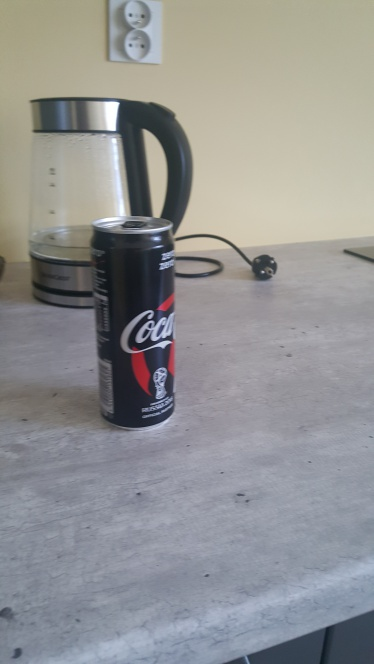colazero: (93, 215, 177, 425)
